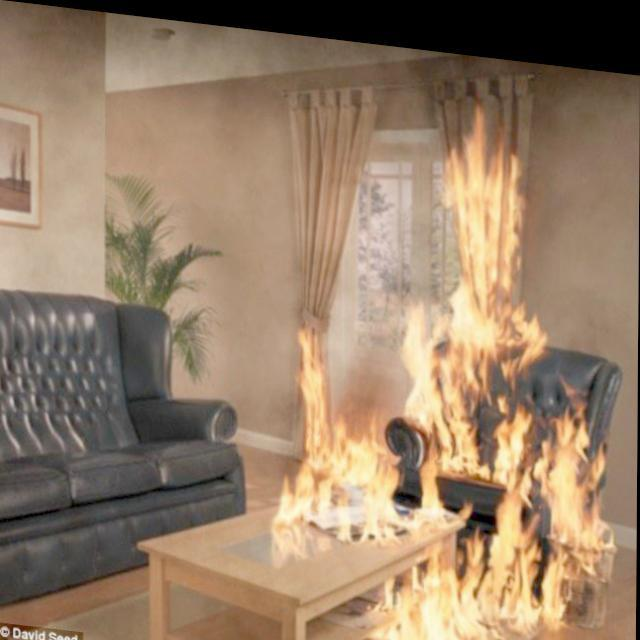Fire: (255, 75, 622, 639)
